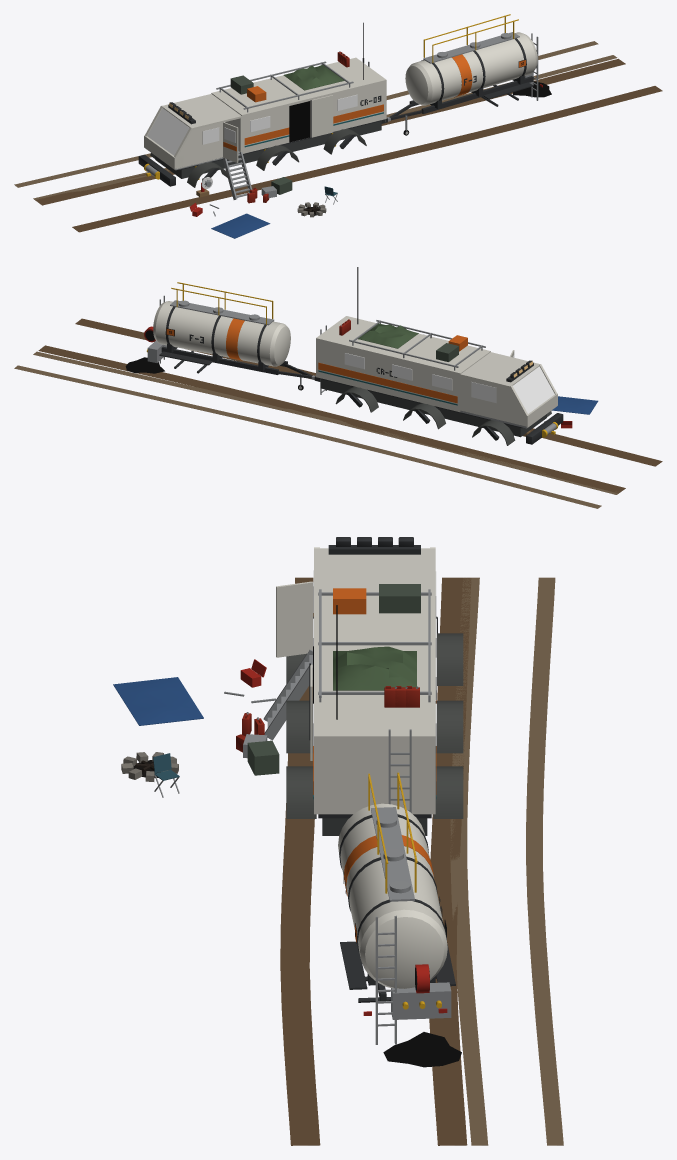
Rendered from stalled-crawler.glb.
3 renders of one model, top to bottom at view 1: azimuth 30°, elevation 25°; view 2: azimuth 150°, elevation 25°; view 3: azimuth 270°, elevation 25°, orthographic. The views are drawn at different scales.
Parts seen in each view (by area): view 1: C0_0_lod0, C-1_0_lod0, C-1_-1_lod0, C0_-1_lod0; view 2: C0_0_lod0, C-1_0_lod0, C-1_-1_lod0; view 3: C0_0_lod0, C-1_0_lod0, C-1_-1_lod0, C0_-1_lod0.
Part boxes in pixels (x1,y1,x2,y2): C0_0_lod0: (14,14,662,238); C-1_0_lod0: (138,57,386,186); C-1_-1_lod0: (154,81,383,217); C0_-1_lod0: (363,22,533,99); C0_0_lod0: (14,282,662,508); C-1_0_lod0: (316,316,563,445); C-1_-1_lod0: (376,320,572,436); C0_0_lod0: (113,577,563,1145); C-1_0_lod0: (313,537,463,835); C-1_-1_lod0: (121,537,366,818); C0_-1_lod0: (336,605,367,989).
Size of what is drawn, in the model's own units: 32.02 by 6.92 by 10.73.
